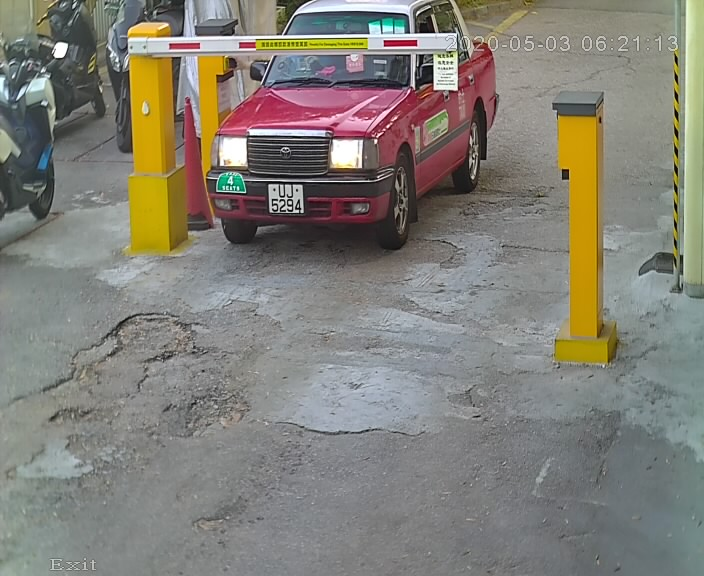taxi: (177, 2, 511, 278)
taxi_mark: (213, 163, 255, 205)
